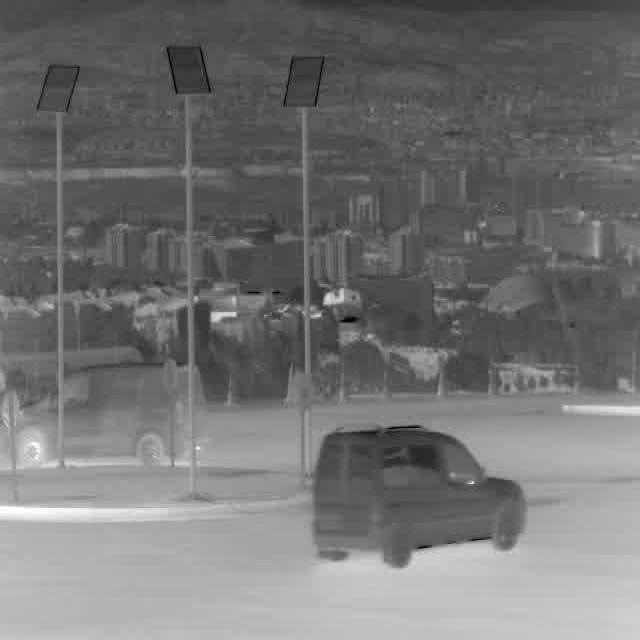Car: (313, 425, 529, 567), (10, 361, 209, 463)
